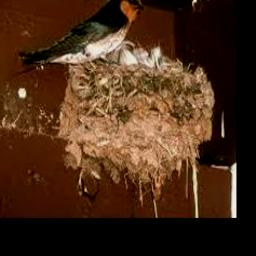Swallow: (19, 0, 144, 67)
